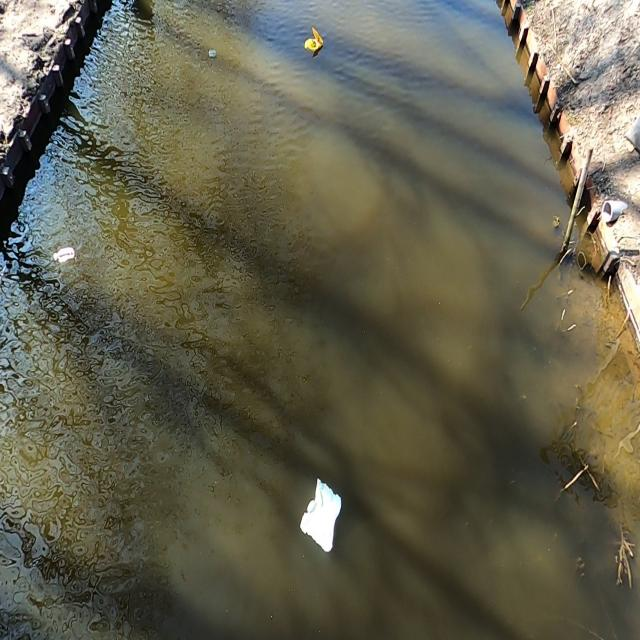Autre plastique: (303, 26, 323, 61)
Bouteille plastique: (294, 481, 346, 551), (51, 244, 74, 267)
